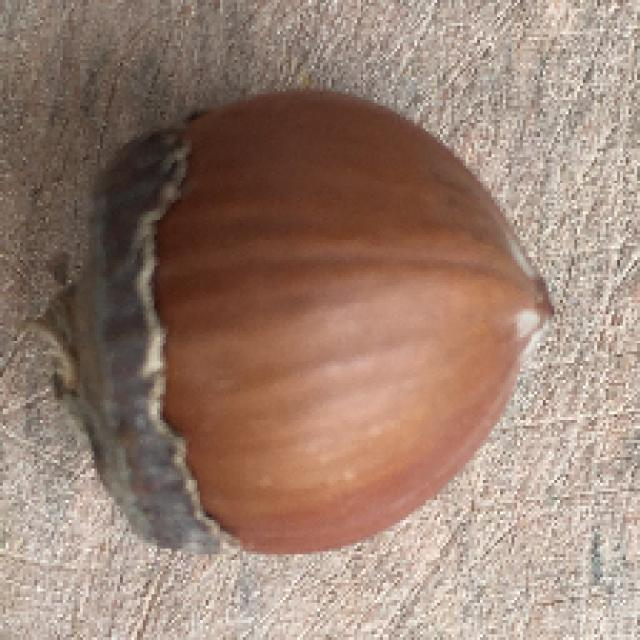damagedHazelnut: (38, 86, 556, 559)
